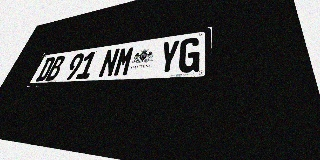1: (76, 51, 98, 79)
9: (64, 53, 86, 80)
B: (45, 55, 66, 81)
D: (35, 57, 56, 81)
G: (177, 37, 201, 73)
M: (112, 46, 136, 77)
N: (98, 48, 121, 78)
Y: (157, 39, 180, 74)
